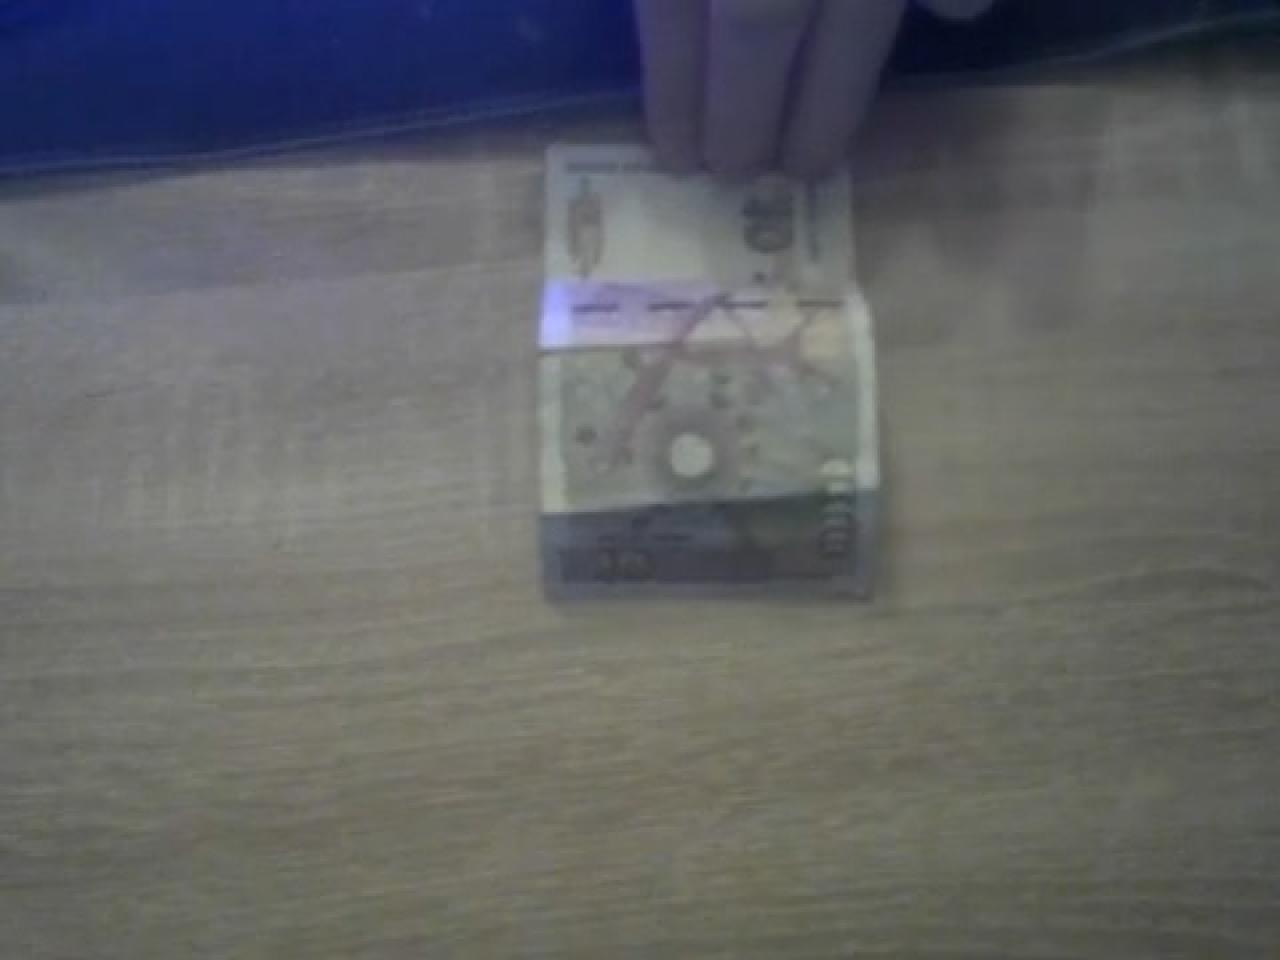10leva: (536, 144, 877, 595)
